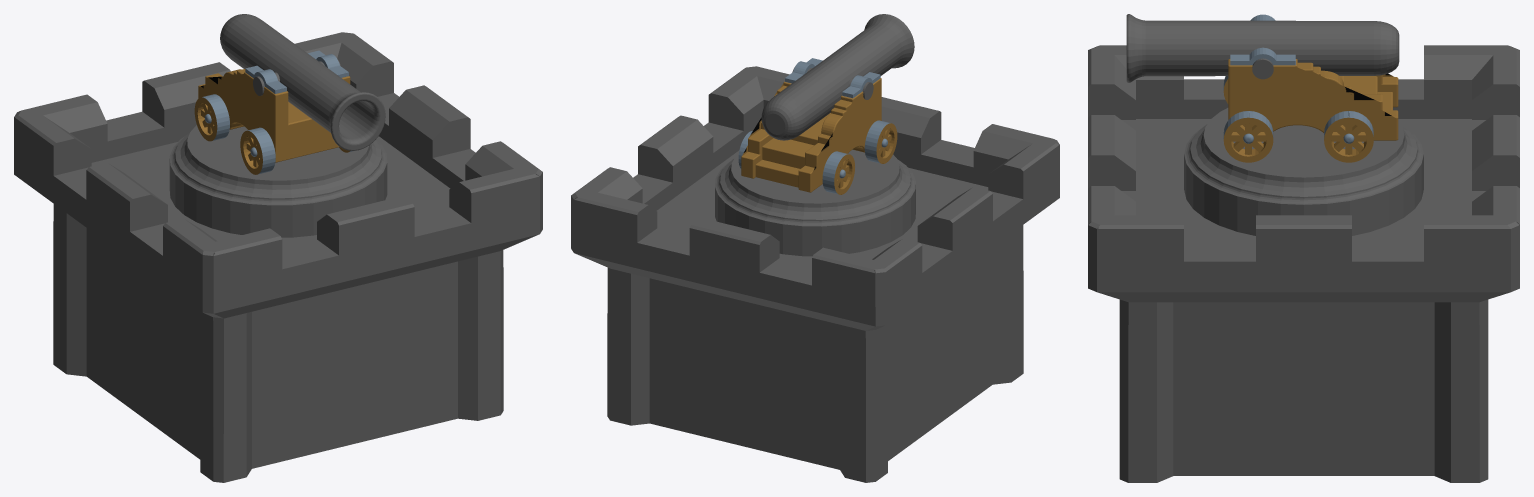
File: Turret_Cannon.fbx
The picture shows the model from 3 angles, left to right: view 1: azimuth 30°, elevation 25°; view 2: azimuth 150°, elevation 25°; view 3: azimuth 270°, elevation 25°; orthographic projection. The views are drawn at different scales.
Parts seen in each view (by area): view 1: Base, Barrel, BarrelCart, FrontWheels, BackWheels; view 2: Base, BarrelCart, Barrel, BackWheels, FrontWheels; view 3: Base, Barrel, BarrelCart, FrontWheels, BackWheels.
Boxes of the visible parts, x1,y1,x2,y2 form: Base: [14, 32, 542, 482]; Barrel: [220, 14, 385, 150]; BarrelCart: [198, 50, 350, 162]; FrontWheels: [240, 127, 354, 174]; BackWheels: [194, 94, 229, 141]; Base: [571, 66, 1059, 482]; BarrelCart: [741, 58, 881, 192]; Barrel: [761, 14, 914, 140]; BackWheels: [738, 131, 854, 194]; FrontWheels: [864, 120, 897, 163]; Base: [1088, 45, 1519, 482]; Barrel: [1126, 14, 1399, 82]; BarrelCart: [1228, 14, 1398, 140]; FrontWheels: [1223, 76, 1273, 162]; BackWheels: [1324, 111, 1373, 162].
Size of the model in its own units: 360 by 357 by 360.
